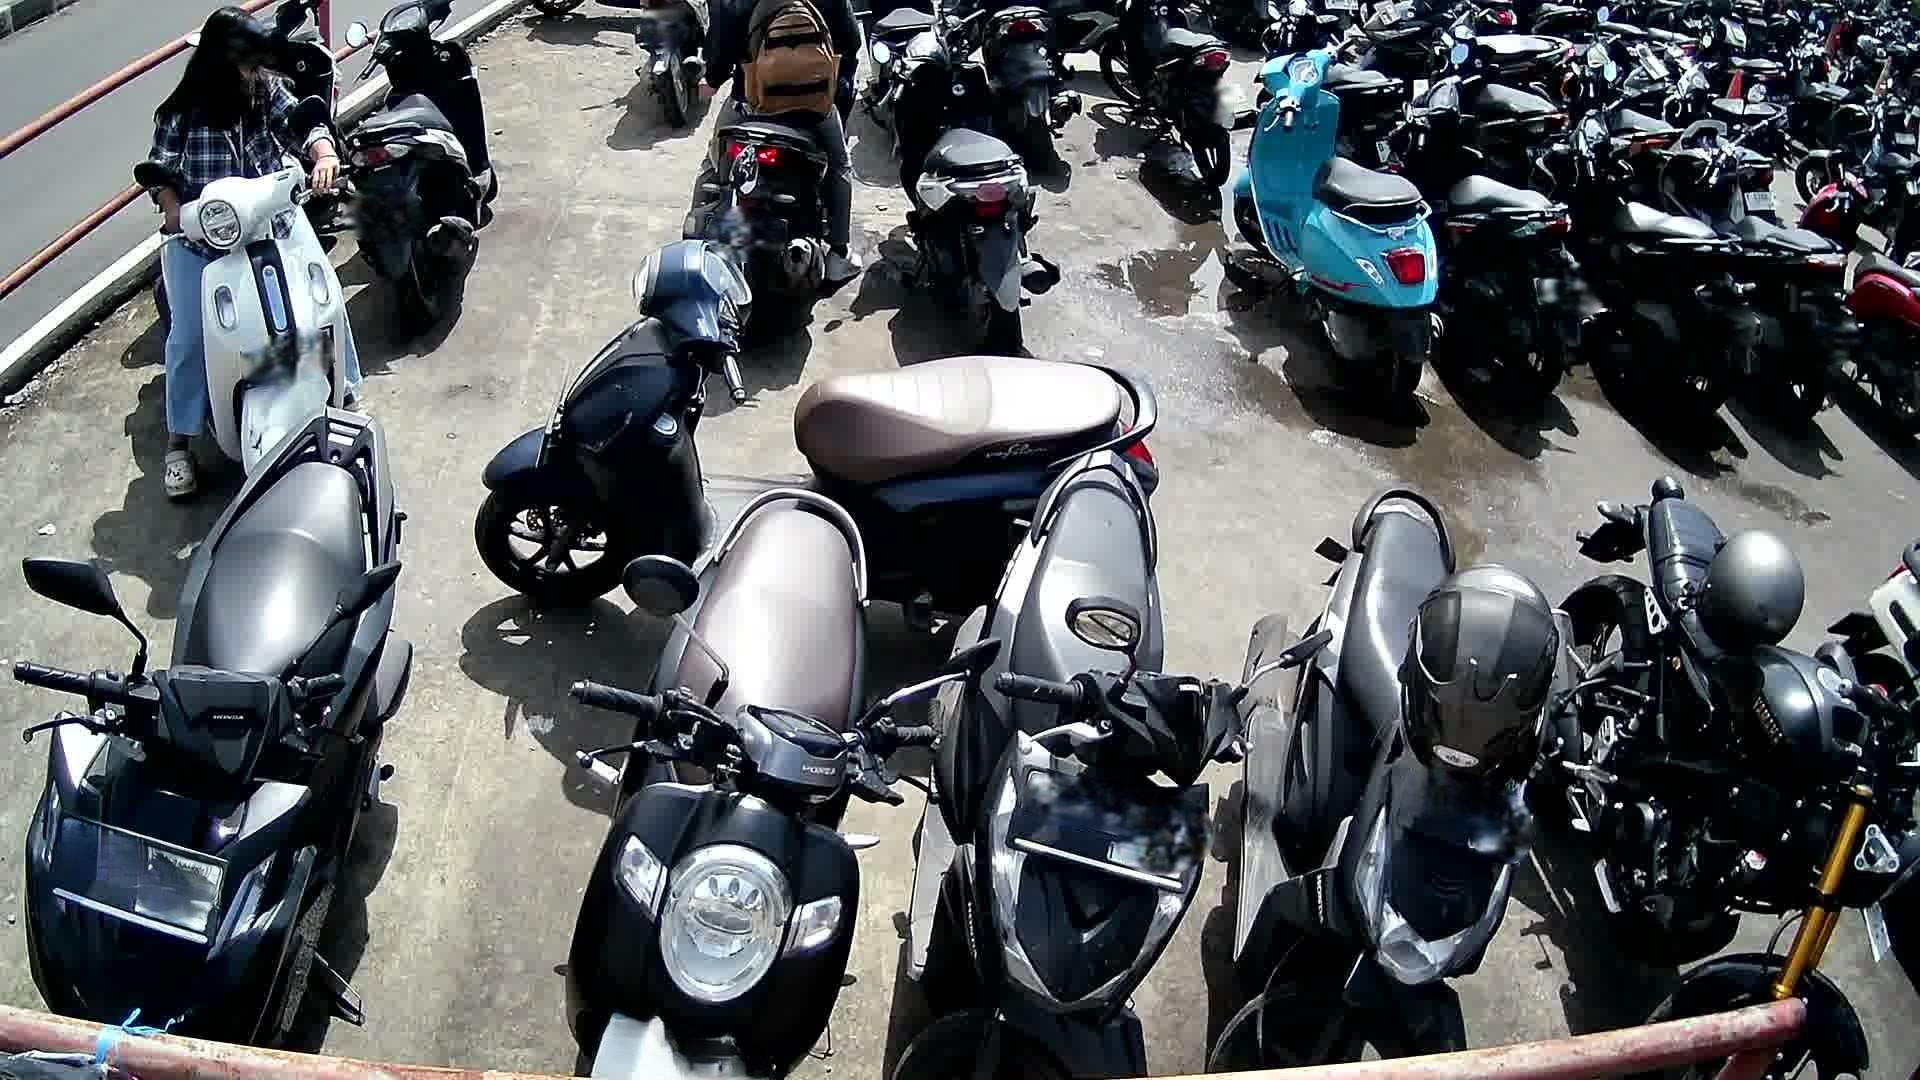motorcycle: (472, 144, 1162, 604), (11, 404, 411, 1043), (898, 448, 1267, 1080), (1548, 471, 1920, 1079), (563, 489, 936, 1080), (1204, 485, 1577, 1064), (132, 94, 356, 487), (1379, 44, 1607, 406), (1236, 36, 1449, 415), (1536, 94, 1767, 425), (873, 0, 1064, 353), (1644, 116, 1849, 427), (344, 0, 501, 323), (679, 116, 860, 356), (1795, 160, 1920, 433)
